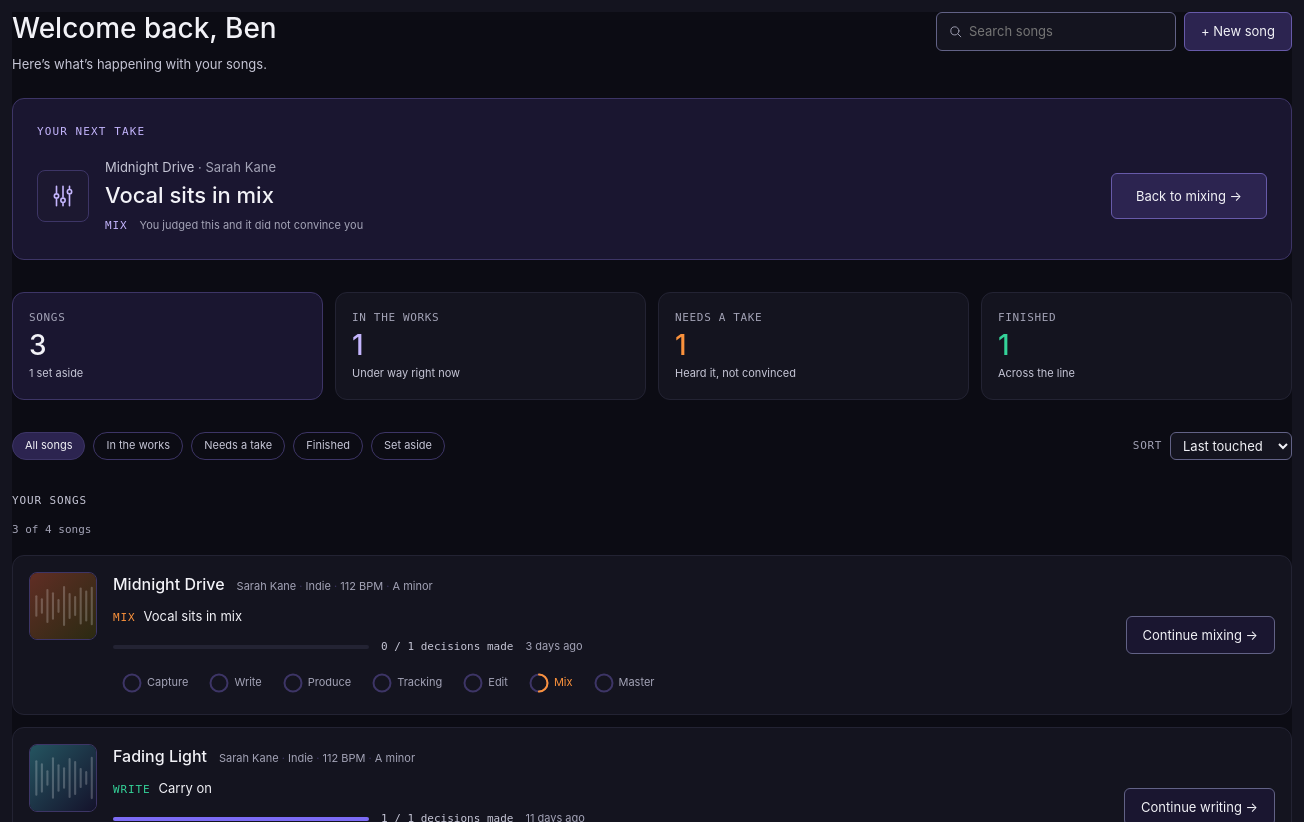
Test: the dashboard › keeps archived songs out of every view but their own
expect the heading "Welcome back, Ben" is shown: met, box [12,12,277,46]
expect the heading "Desert Road" is not shown: met
Click the button "Set aside" at (408,446), box [371,432,445,460]
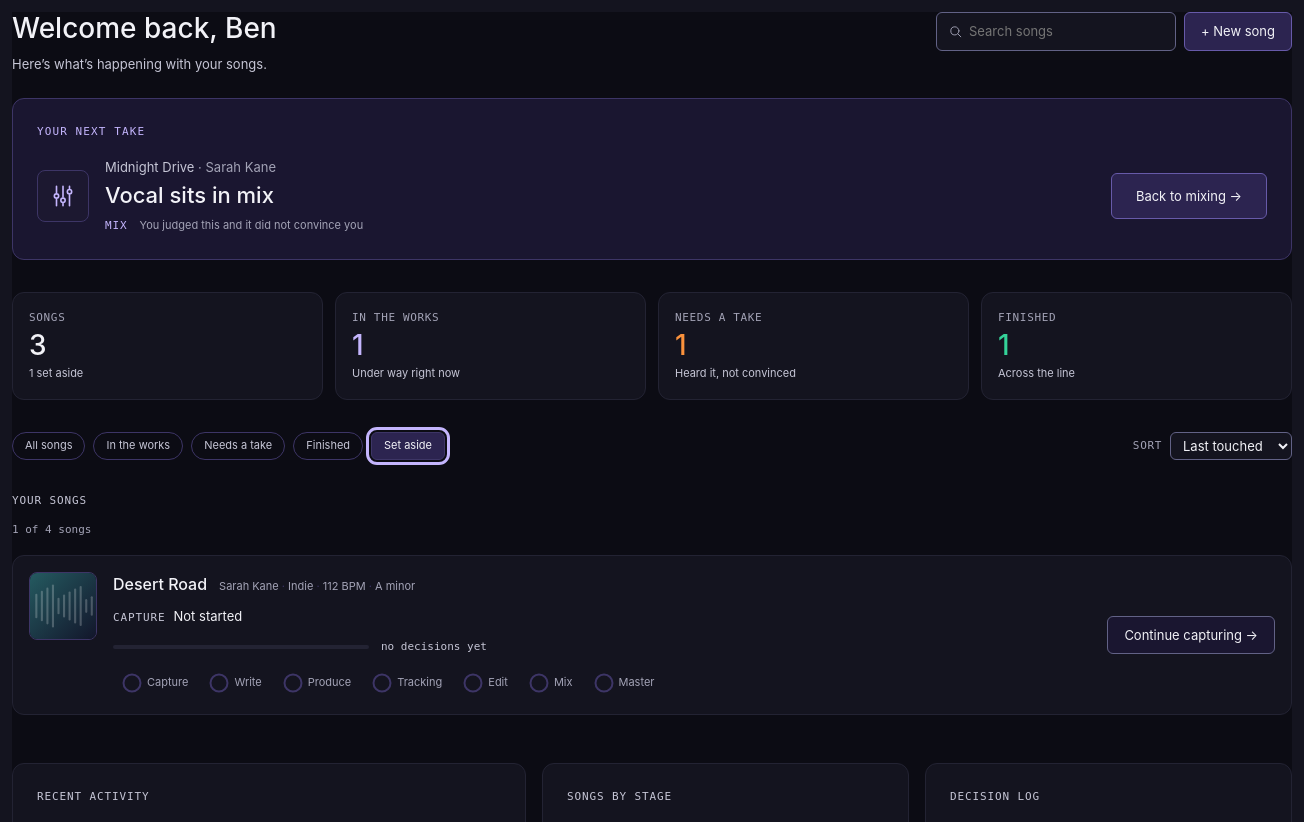
expect the heading "Desert Road" is shown: met, box [113,572,207,598]
